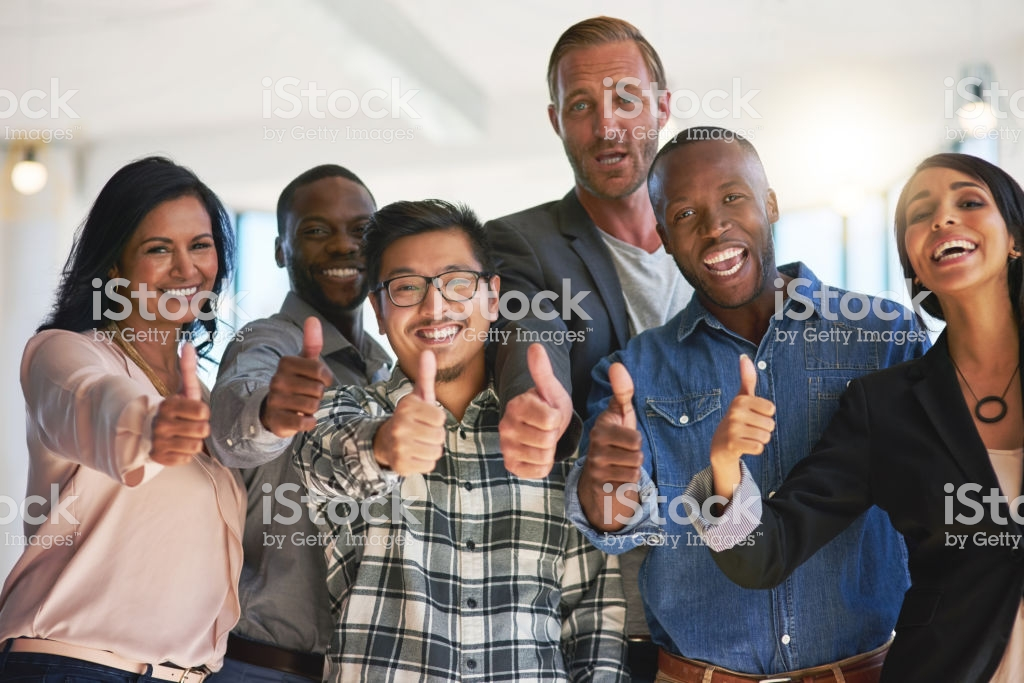thumbsup: (497, 341, 575, 482), (375, 346, 448, 479), (582, 360, 646, 500), (264, 316, 334, 439), (148, 340, 213, 470), (714, 351, 778, 460)
